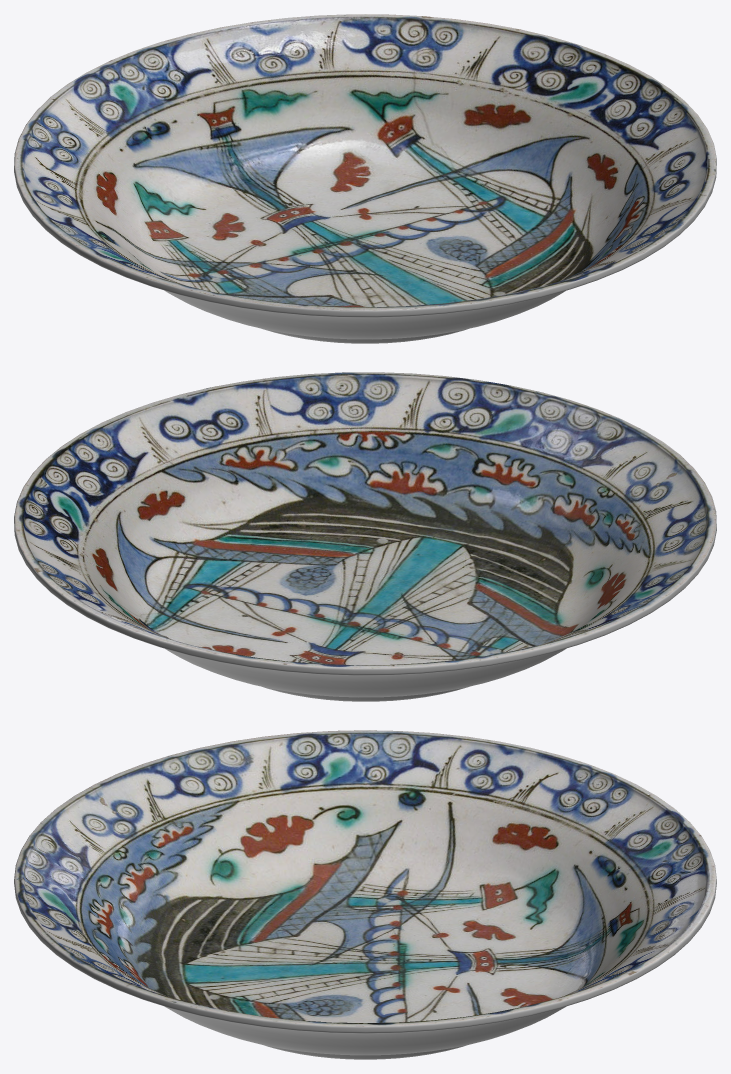
Rendered from Fruit_Bowl_Circle.FBX.
3 views of the same model, one above another, from view 1: azimuth 30°, elevation 25°; view 2: azimuth 150°, elevation 25°; view 3: azimuth 270°, elevation 25° (orthographic).
Parts seen in each view (by area): view 1: Fruit_Bowl_Circle; view 2: Fruit_Bowl_Circle; view 3: Fruit_Bowl_Circle.
Boxes of the visible parts, left/top/right/bottom form: Fruit_Bowl_Circle: left=14, top=14, right=716, bottom=343; Fruit_Bowl_Circle: left=14, top=372, right=716, bottom=701; Fruit_Bowl_Circle: left=14, top=730, right=716, bottom=1059.
Size of what is drawn, in the model's own units: 25.22 by 25.22 by 4.4.
